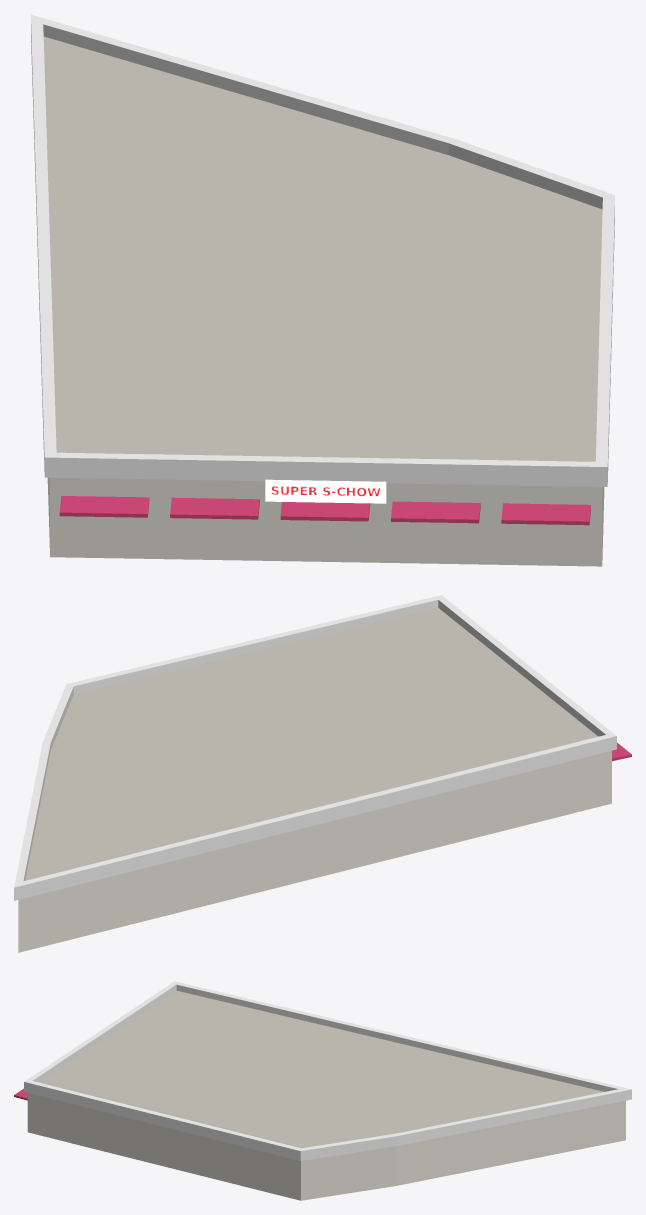
The model's file is schow.glb.
3 renders of one model, top to bottom at view 1: azimuth 30°, elevation 25°; view 2: azimuth 150°, elevation 25°; view 3: azimuth 270°, elevation 25°, orthographic. The views are drawn at different scales.
Parts seen in each view (by area): view 1: schow_lod0; view 2: schow_lod0; view 3: schow_lod0.
Part boxes in pixels (x1,y1,x2,y2): schow_lod0: (31, 14, 614, 566); schow_lod0: (14, 595, 631, 952); schow_lod0: (14, 981, 631, 1200).
Size of what is drawn, in the model's own units: 36.71 by 5.1 by 56.1.
5 materials, 2 textured.
